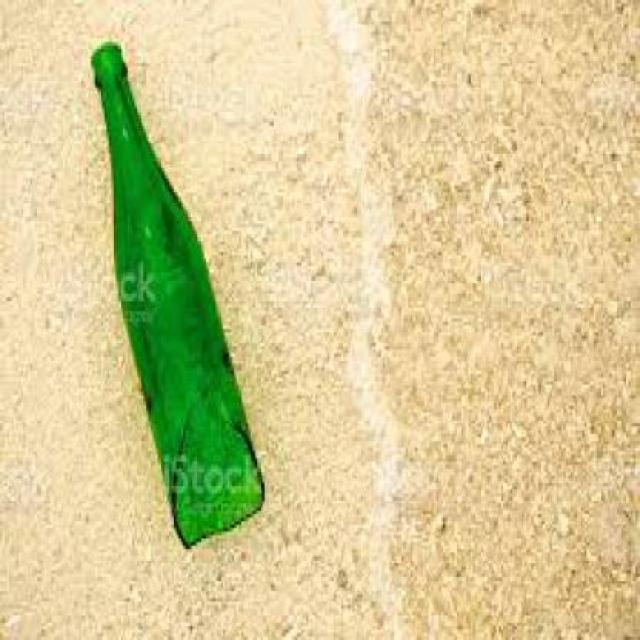kaca: (94, 42, 263, 546)
